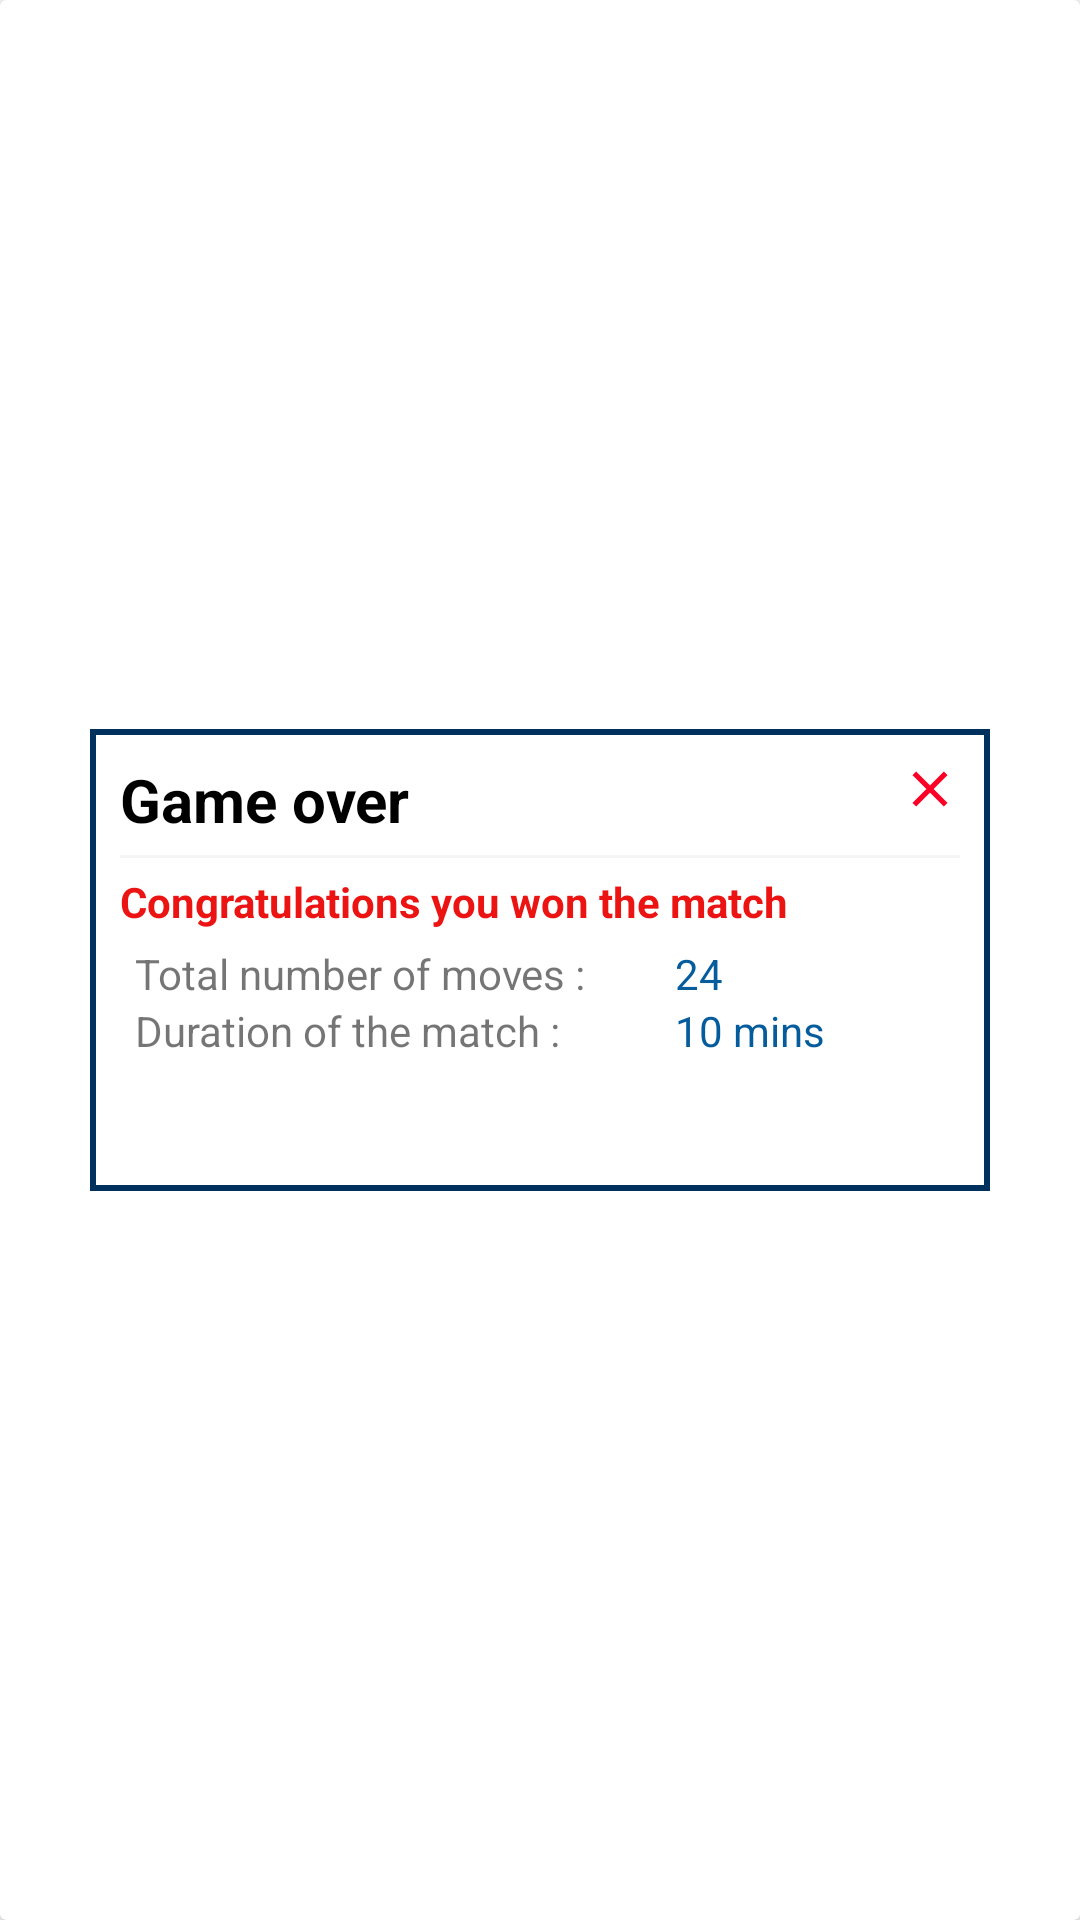

Screen size 1080w x 1920h. Icon name, then its box in pixels as (x1, y1, x2, y2):
close: (912, 771, 948, 807)
